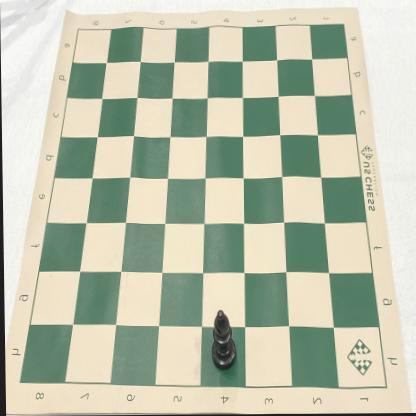black-bishop: (209, 310, 236, 372)
